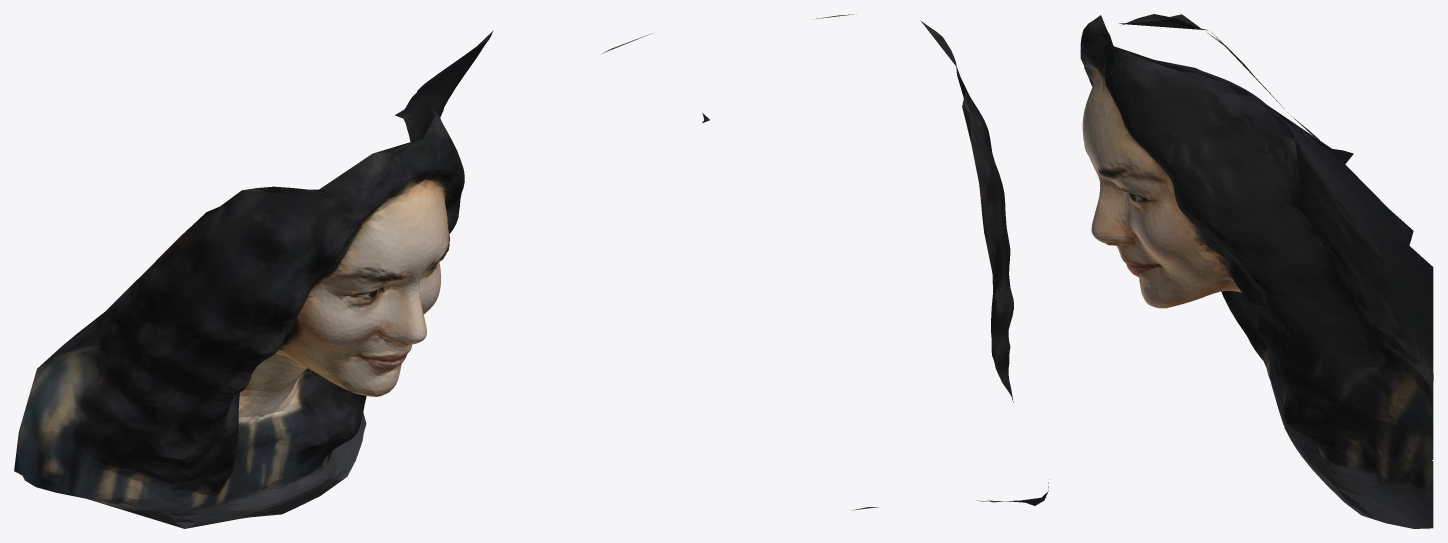
File: ЛицоНеГолова.glb
The picture shows the model from 3 angles, left to right: view 1: azimuth 30°, elevation 25°; view 2: azimuth 150°, elevation 25°; view 3: azimuth 270°, elevation 25°; orthographic projection. The views are drawn at different scales.
Size of the model in its own units: 0.5646 by 0.4935 by 0.3417.
Materials: 1 (1 with a texture image).
